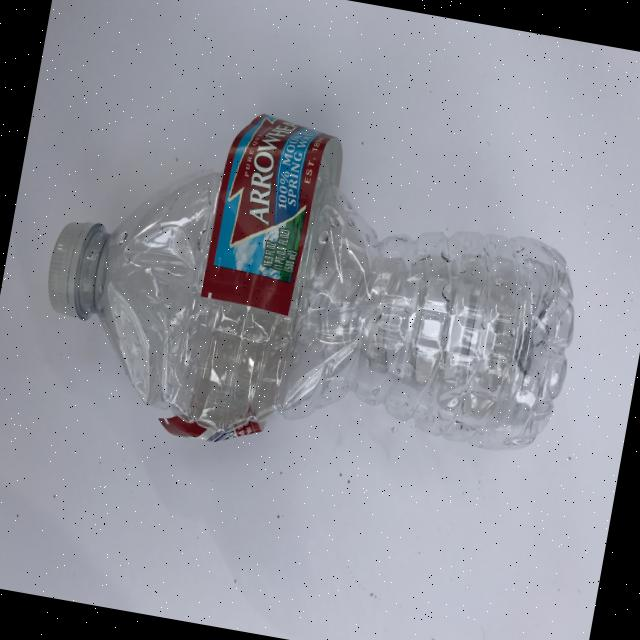plastic: (24, 81, 602, 502)
